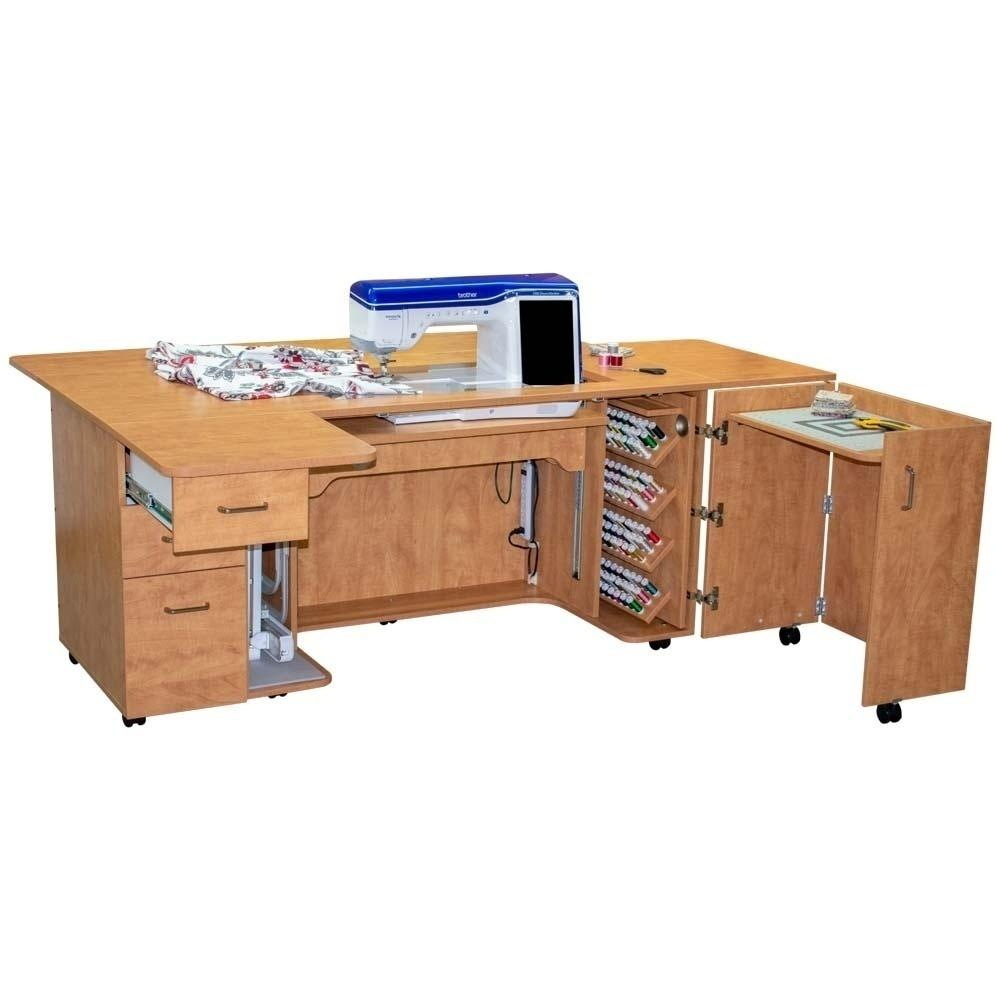cabinet_door: (879, 433, 975, 686), (128, 570, 249, 701), (180, 474, 309, 540), (119, 505, 248, 565)
handle: (215, 497, 271, 519), (160, 599, 213, 621), (899, 465, 918, 513)
